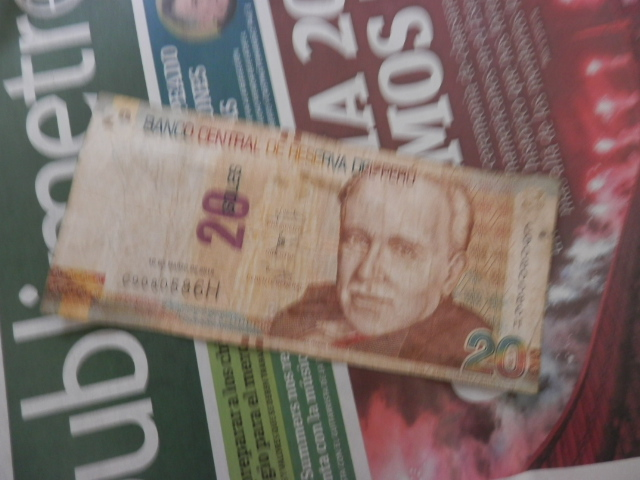B20: (59, 92, 558, 401)
